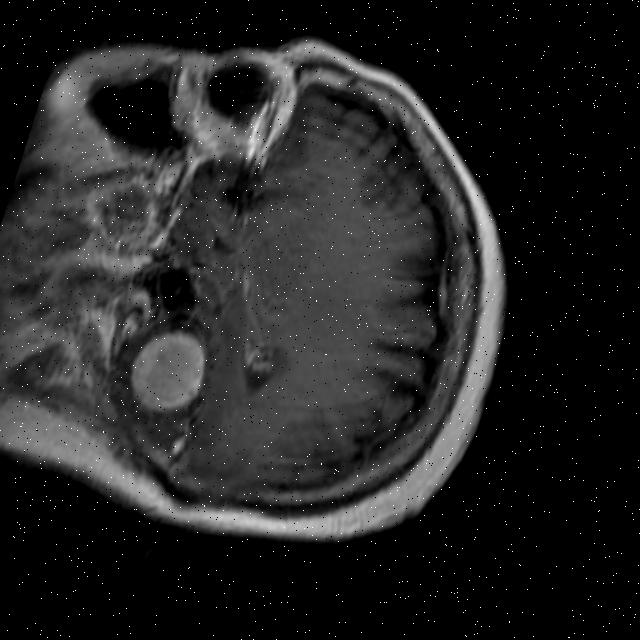Meningioma: (116, 318, 218, 422)
